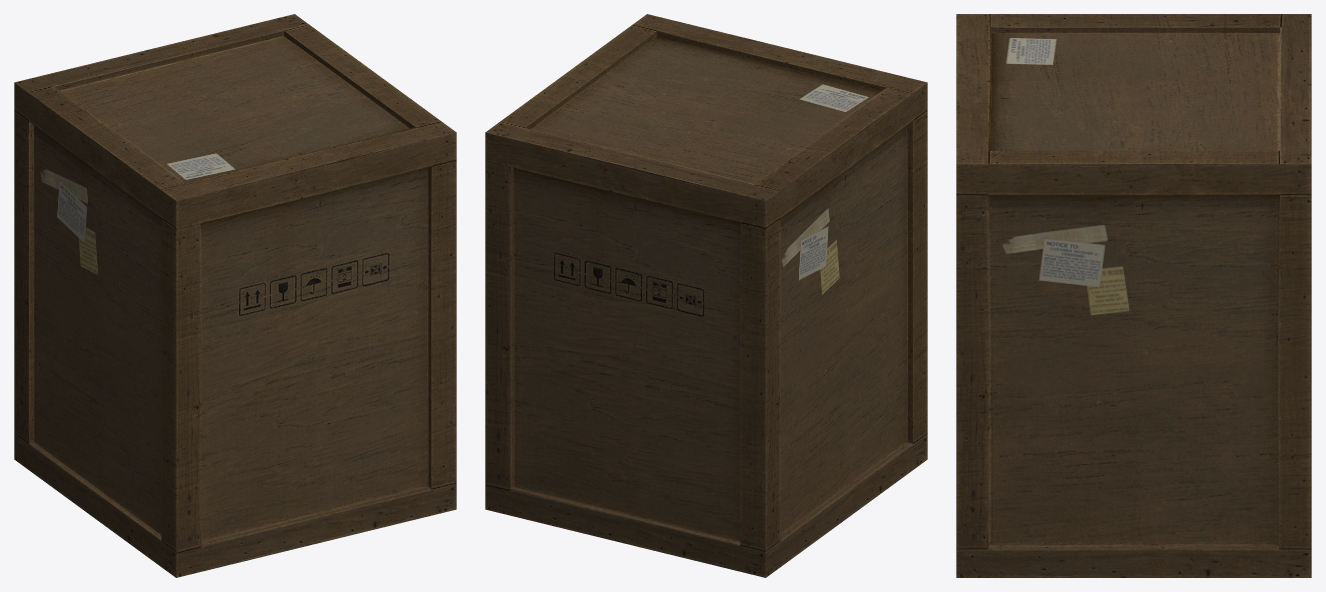
File: wooden_crate_hx_2_1.obj
3 renders of one model, left to right at view 1: azimuth 30°, elevation 25°; view 2: azimuth 150°, elevation 25°; view 3: azimuth 270°, elevation 25°, orthographic. The views are drawn at different scales.
Visible parts, largest first — view 1: wooden_crate_hx_2_1; view 2: wooden_crate_hx_2_1; view 3: wooden_crate_hx_2_1.
Boxes of the visible parts, box(x1,y1,x2,y2) form: wooden_crate_hx_2_1: box(14, 14, 456, 577); wooden_crate_hx_2_1: box(485, 14, 927, 577); wooden_crate_hx_2_1: box(956, 14, 1311, 577).
Bounding box in the file's own units: 1.4 × 1.8 × 1.4.
